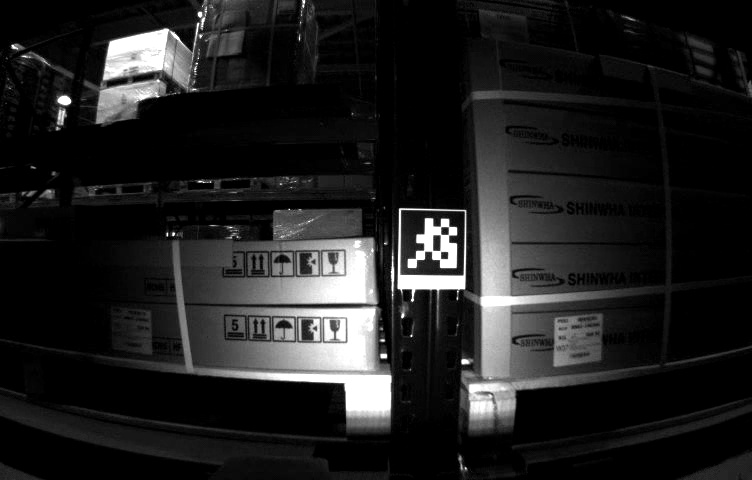True Barcode: (554, 311, 602, 367), (110, 306, 153, 354)
